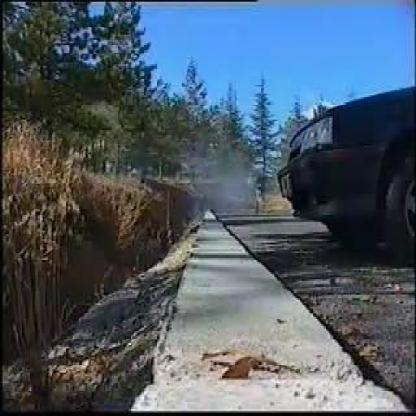-: (190, 155, 248, 212)
